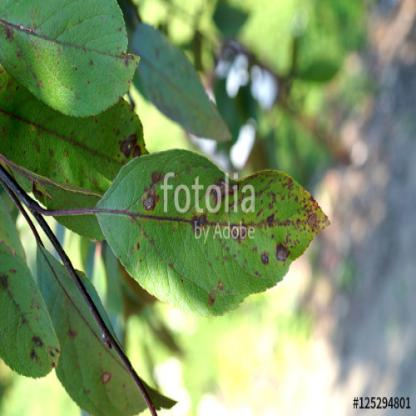Apple Scab Leaf: (103, 127, 331, 319), (1, 4, 141, 114), (1, 241, 63, 395)
